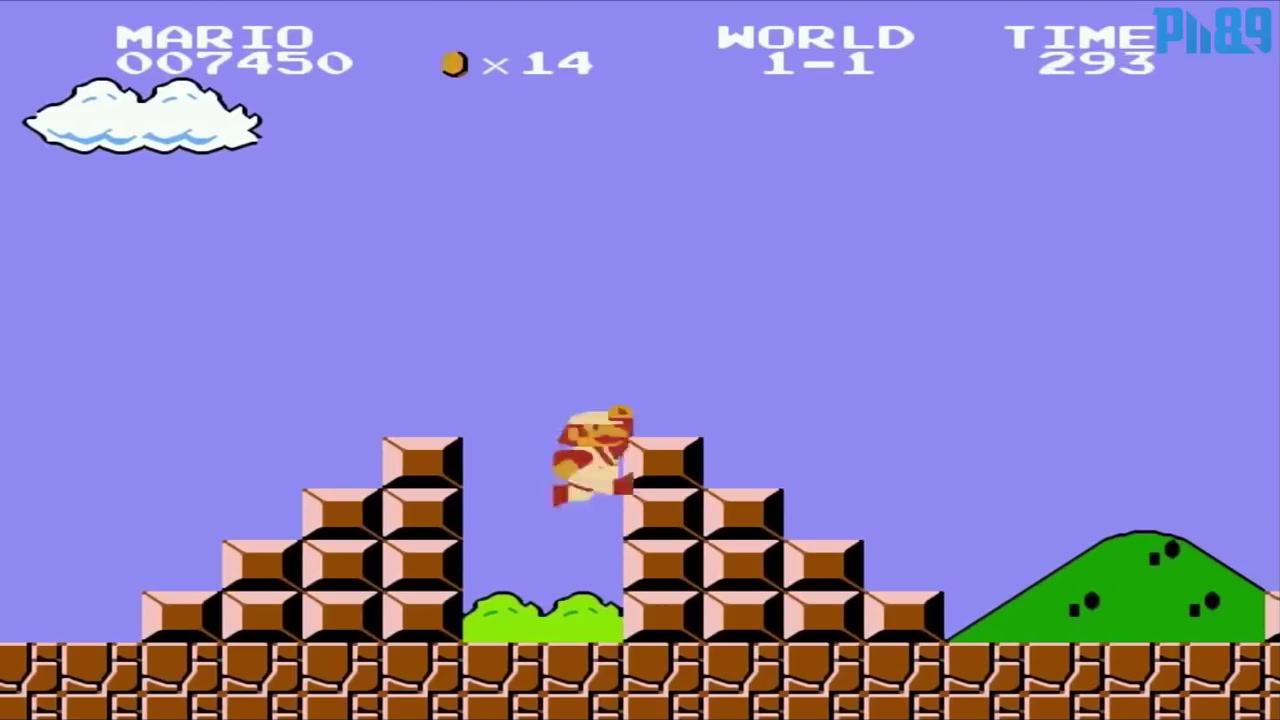mario: (538, 398, 640, 514)
